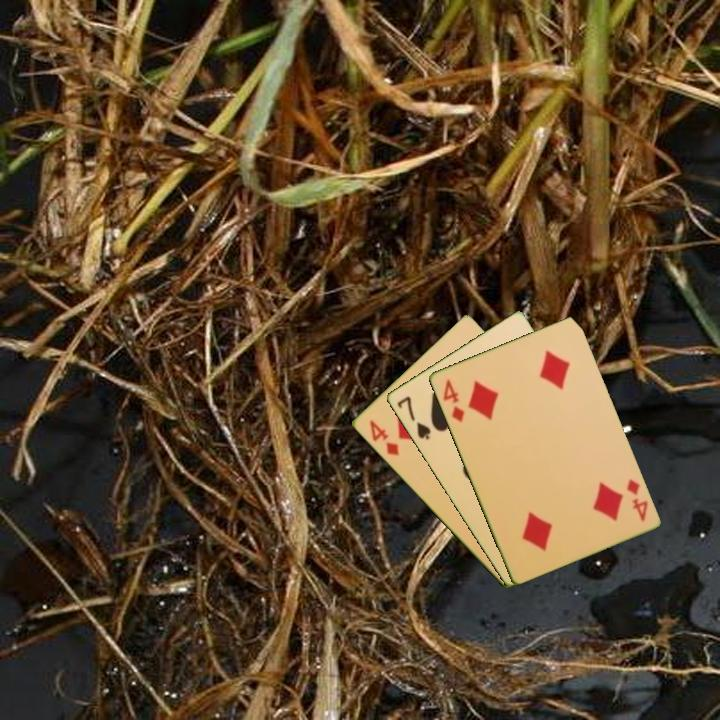4d: (366, 416, 402, 459), (439, 376, 467, 424), (623, 475, 650, 524)
7s: (393, 392, 433, 443)
